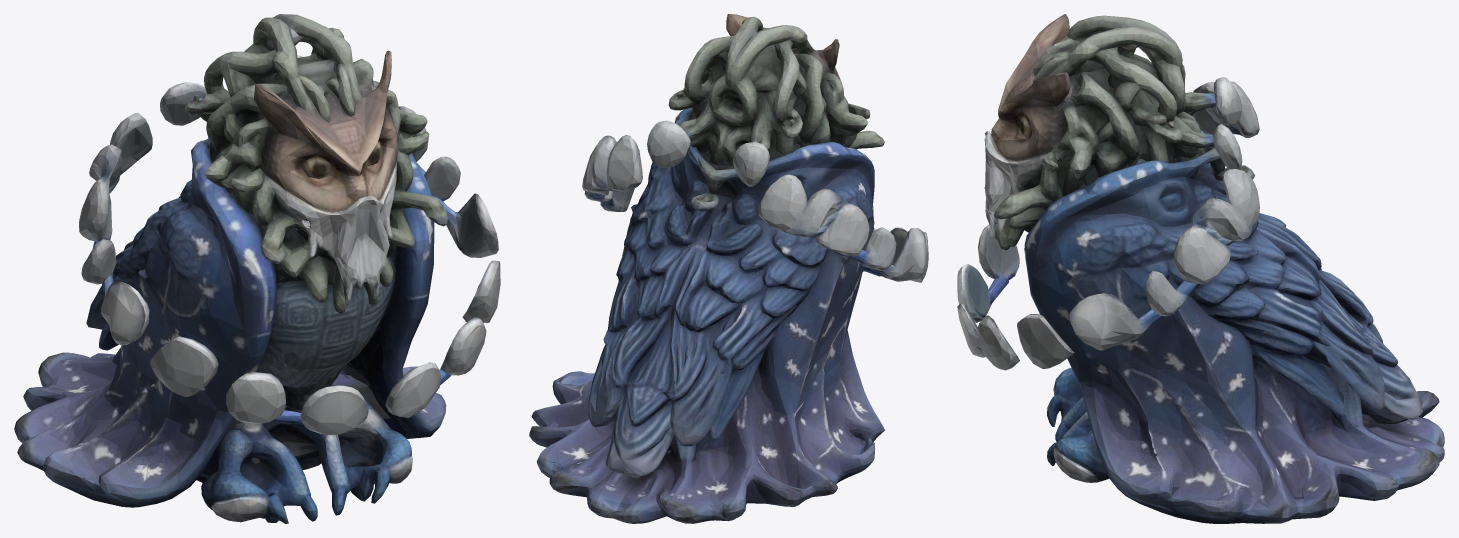
Rendered from nightveil__midnightAugur.glb.
3 views of the same model, side by side, from view 1: azimuth 30°, elevation 25°; view 2: azimuth 150°, elevation 25°; view 3: azimuth 270°, elevation 25° (orthographic). The views are drawn at different scales.
Visible parts, largest first — view 1: world; view 2: world; view 3: world.
Part boxes in pixels (x1,y1,x2,y2): world: [14, 14, 500, 523]; world: [529, 14, 928, 523]; world: [957, 14, 1444, 523].
Bounding box in the file's own units: 0.8245 × 0.97 × 0.9916.
Materials: 1 (1 with a texture image).
